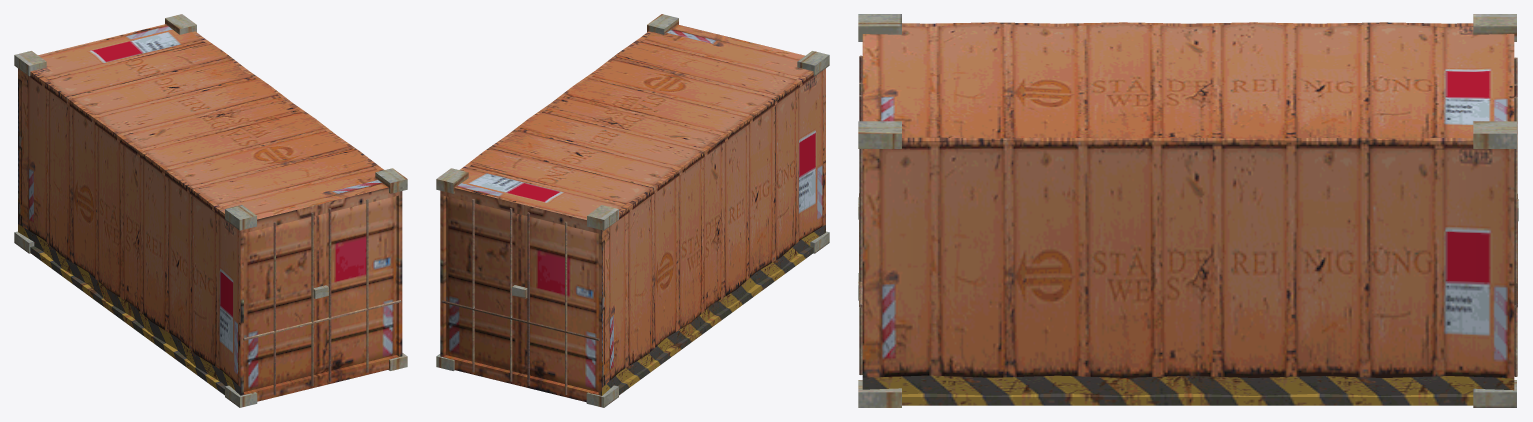
File: Container3_SM.fbx
3 views of the same model, side by side, from view 1: azimuth 30°, elevation 25°; view 2: azimuth 150°, elevation 25°; view 3: azimuth 270°, elevation 25° (orthographic). The views are drawn at different scales.
Visible parts, largest first — view 1: Box002; view 2: Box002; view 3: Box002.
Part boxes in pixels (box(x1,y1,x2,y2)): Box002: box(14, 14, 407, 407); Box002: box(436, 14, 829, 407); Box002: box(858, 14, 1518, 407).
Bounding box in the file's own units: 238 × 255 × 556.
